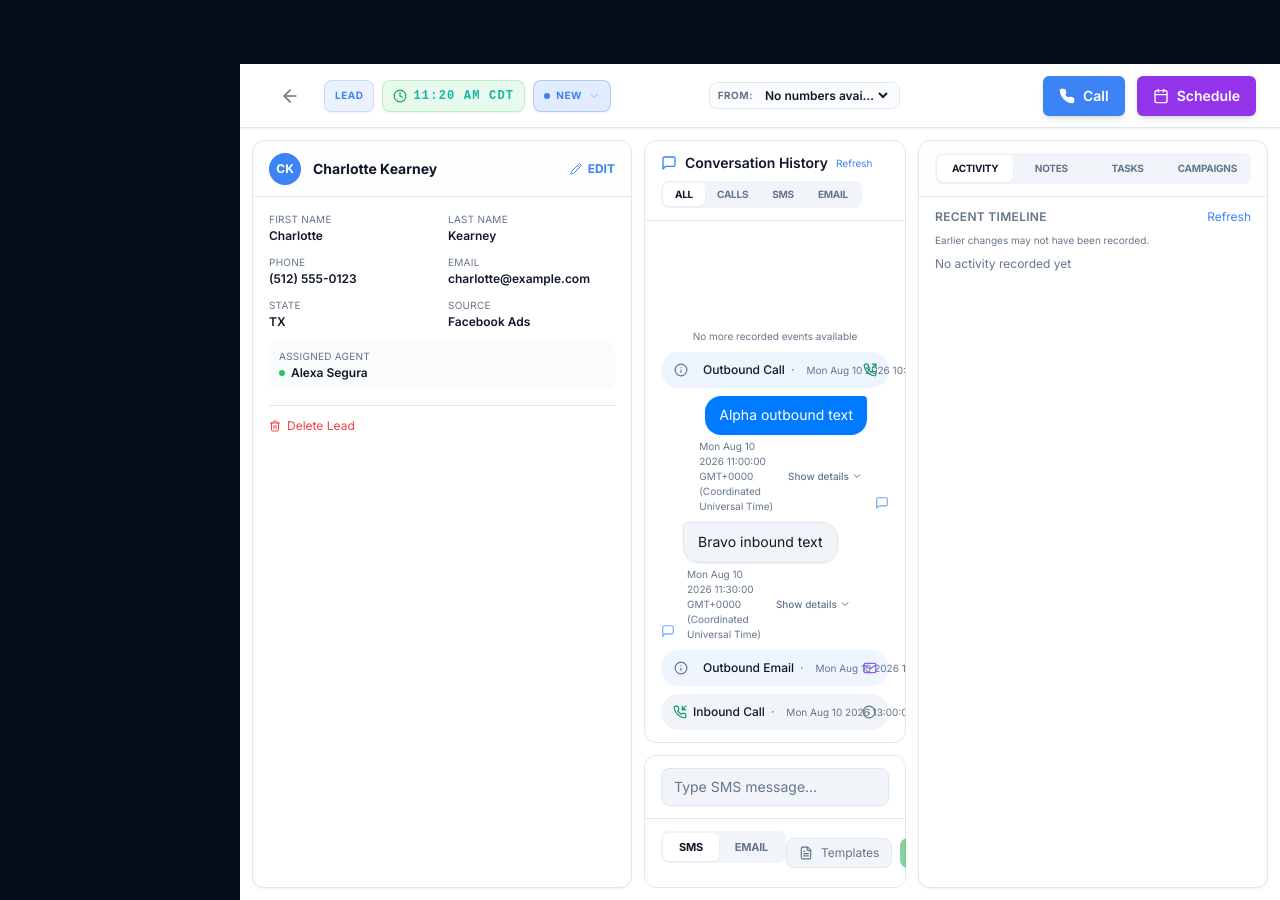
Test: B/C. endpoint details › email details show actual From/To and CC only when present (no BCC row for empty bcc)
Expected: the text "Alpha outbound text" is shown, [719,404,853,427]
Expected: the text "Policy options for Charlotte" is not shown
Click the button named "Email details".
click(681, 668)  # box [665,652,697,684]
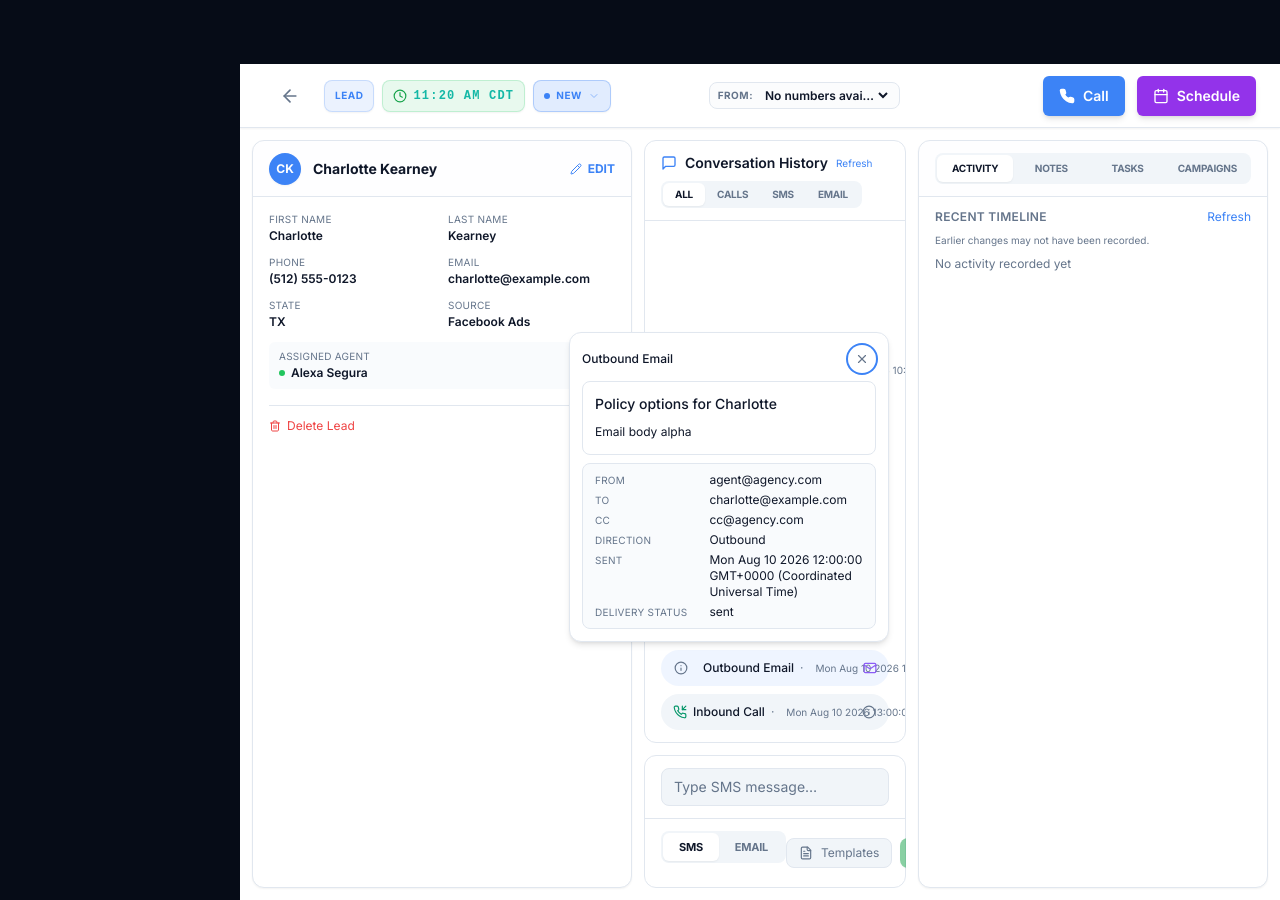
Expected: the text "Policy options for Charlotte" is shown, [595,395,777,412]
Expected: the text "agent@agency.com" is shown, [709,472,822,486]
Expected: the text "charlotte@example.com" below "agent@agency.com" is shown, [709,492,847,506]
